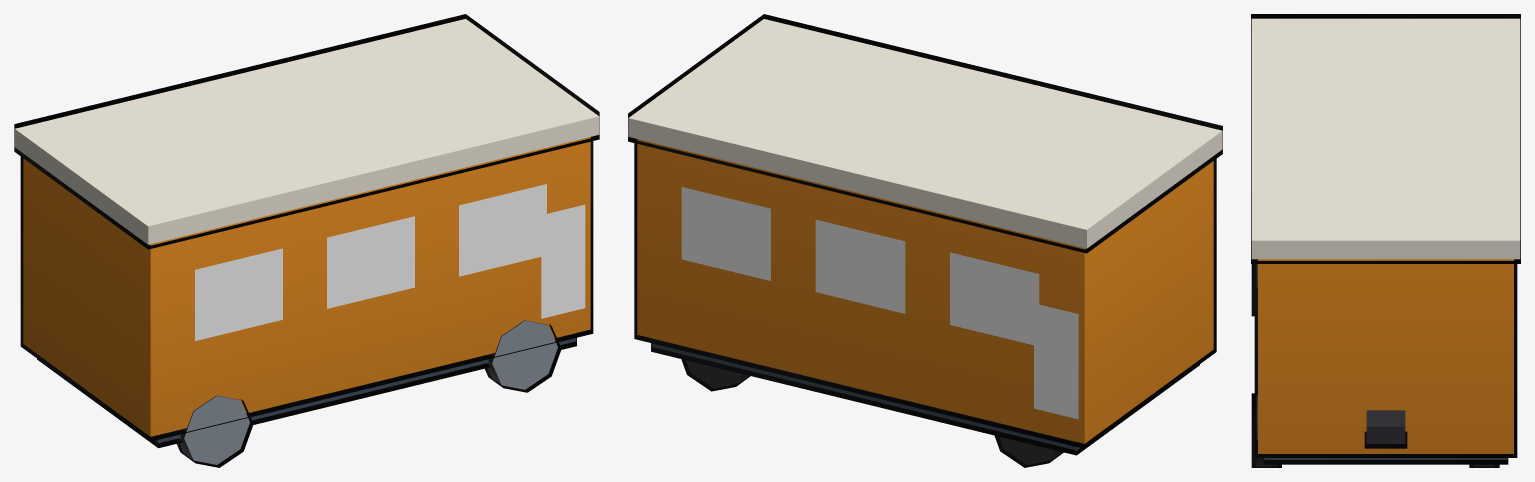
File: BR_Zug_Wagen_E.glb
3 views of the same model, side by side, from view 1: azimuth 30°, elevation 25°; view 2: azimuth 150°, elevation 25°; view 3: azimuth 270°, elevation 25° (orthographic).
Parts seen in each view (by area): view 1: BR_Zug_Wagen_E_Mesh, BR_Zug_Wagen_E_Outline; view 2: BR_Zug_Wagen_E_Mesh, BR_Zug_Wagen_E_Outline; view 3: BR_Zug_Wagen_E_Mesh, BR_Zug_Wagen_E_Outline.
Part boxes in pixels (x1,y1,x2,y2): BR_Zug_Wagen_E_Mesh: (14,19,599,464); BR_Zug_Wagen_E_Outline: (14,14,599,467); BR_Zug_Wagen_E_Mesh: (628,19,1222,464); BR_Zug_Wagen_E_Outline: (628,14,1222,467); BR_Zug_Wagen_E_Mesh: (1251,18,1520,466); BR_Zug_Wagen_E_Outline: (1251,14,1520,467).
Size of the model in its own units: 4.37 by 2.29 by 2.11.
